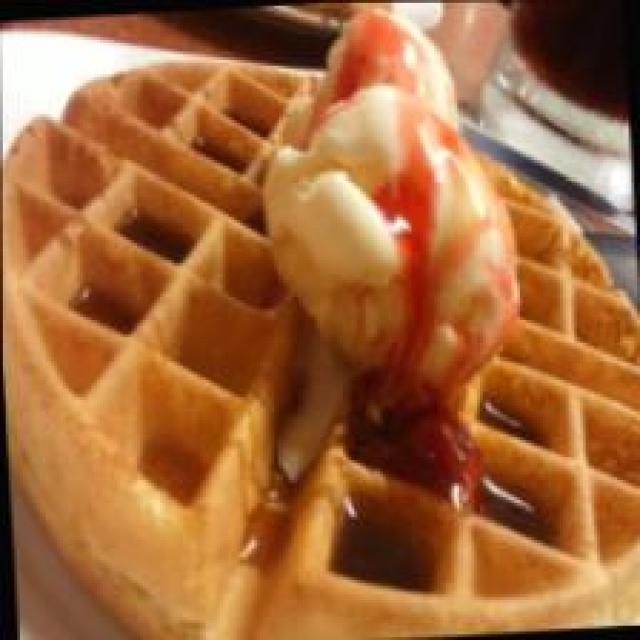Waffles: (0, 23, 640, 640)
